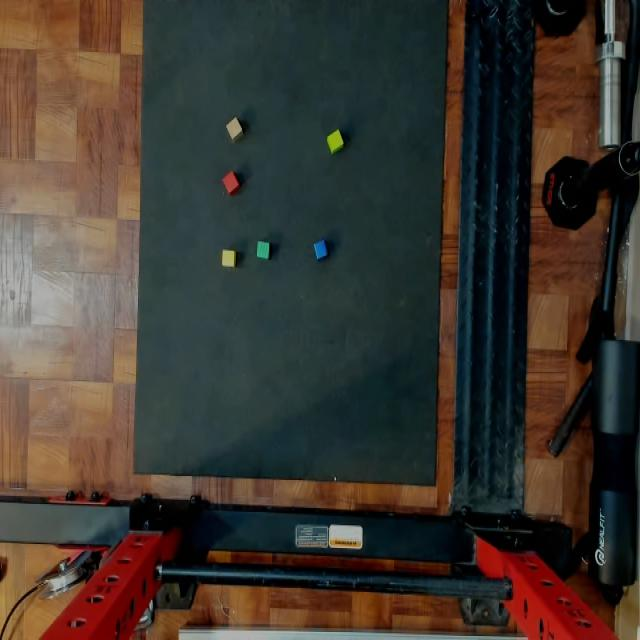block: (327, 129, 344, 153), (226, 117, 242, 139), (222, 173, 237, 193), (314, 240, 328, 259), (222, 249, 236, 267), (256, 243, 269, 259)
